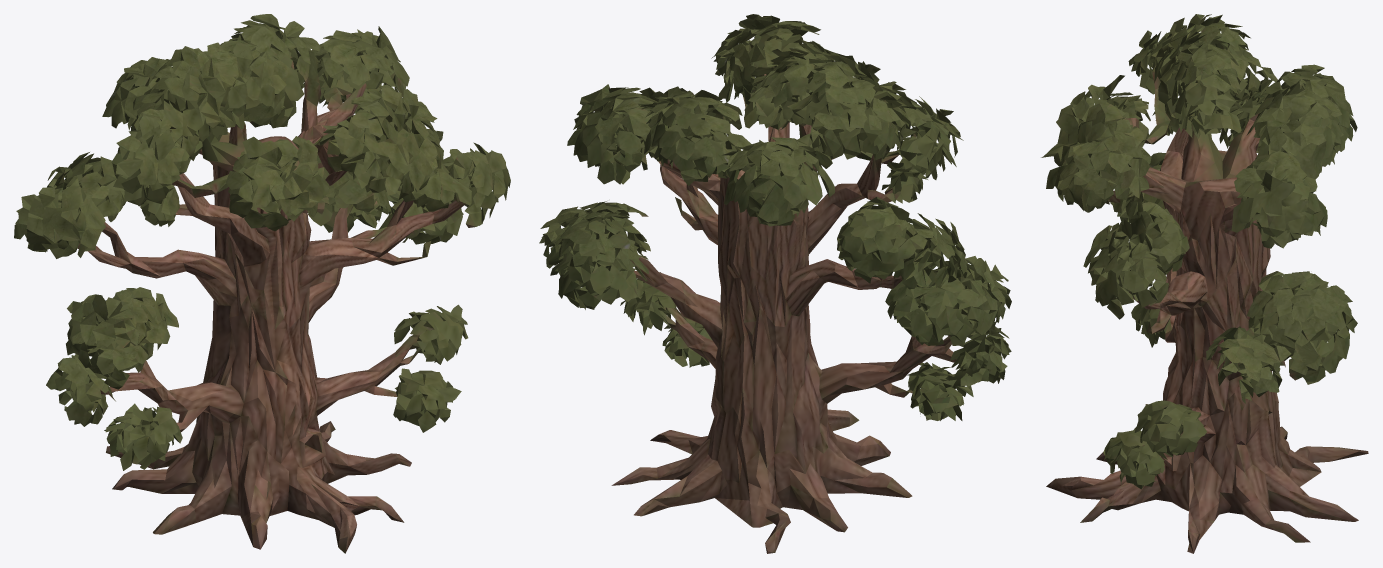
Rendered from tree.glb.
3 renders of one model, left to right at view 1: azimuth 30°, elevation 25°; view 2: azimuth 150°, elevation 25°; view 3: azimuth 270°, elevation 25°, orthographic. The views are drawn at different scales.
Visible parts, largest first — view 1: Mesh_0; view 2: Mesh_0; view 3: Mesh_0.
Part boxes in pixels (x1,y1,x2,y2): Mesh_0: (14, 14, 510, 553); Mesh_0: (539, 14, 1011, 553); Mesh_0: (1041, 14, 1368, 553).
Bounding box in the file's own units: 1.88 × 1.85 × 1.24.
1 material, 1 textured.
